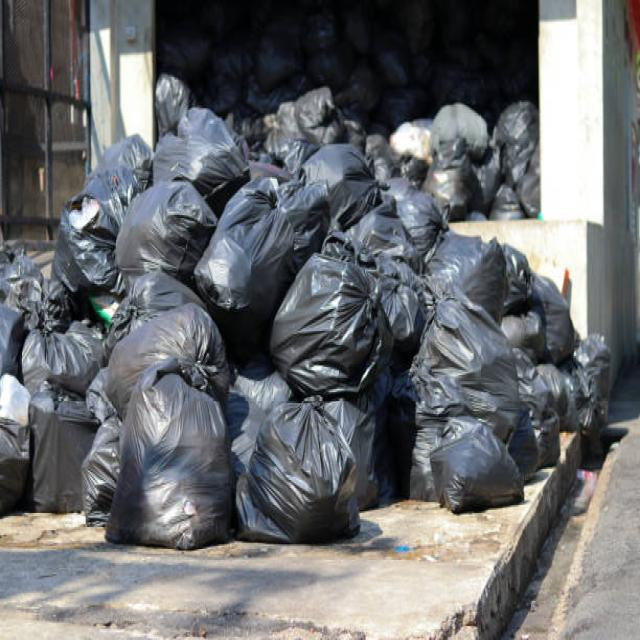garbage: (19, 82, 604, 540)
